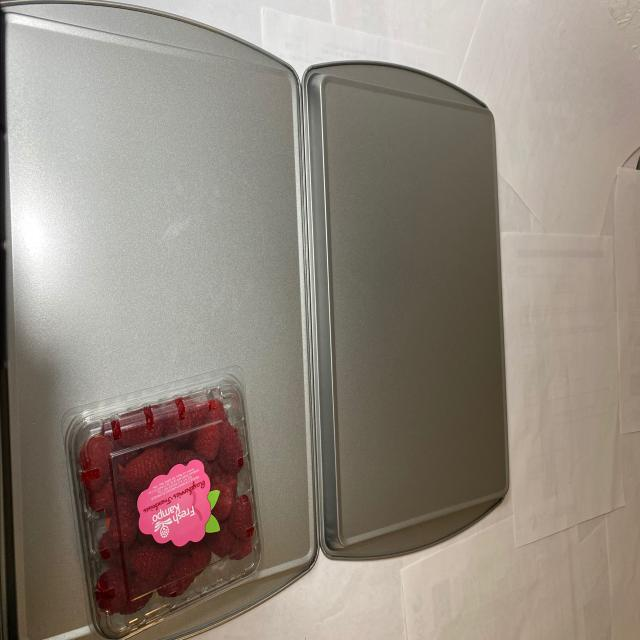Raspberry: (85, 390, 250, 616)
